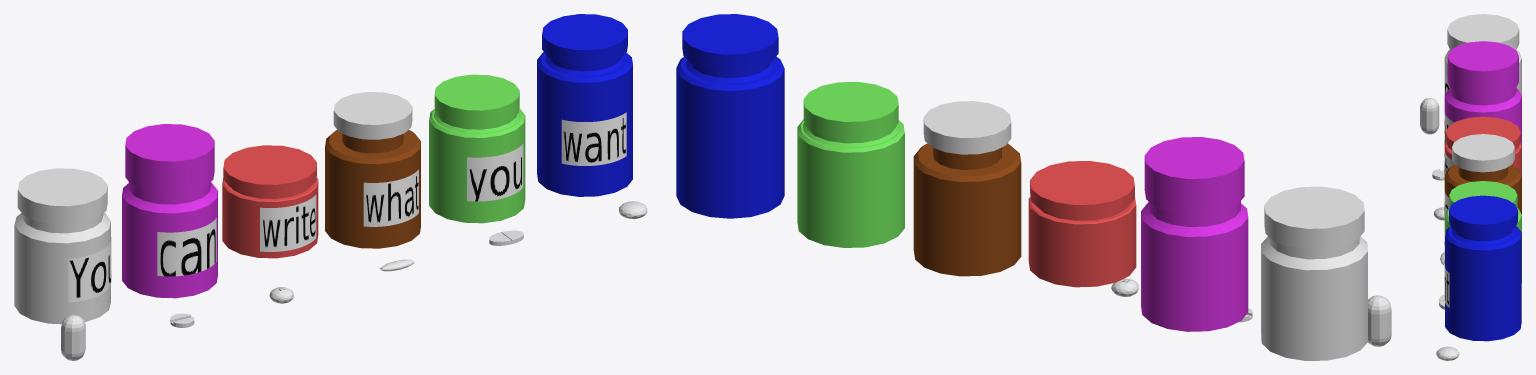
Rendered from release.glb.
3 views of the same model, side by side, from view 1: azimuth 30°, elevation 25°; view 2: azimuth 150°, elevation 25°; view 3: azimuth 270°, elevation 25° (orthographic). The views are drawn at different scales.
Visible parts, largest first — view 1: bottle.005, bottle.003, bottle.001, bottle, bottle.004, bottle.002, cap.001, cap, cap.002, cap.004, cap.005, cap.003 (+1 smaller); view 2: bottle.005, bottle.003, bottle.001, bottle, bottle.004, bottle.002, cap.001, cap, cap.002, cap.004, cap.005, cap.003 (+1 smaller); view 3: bottle.005, cap.001, cap.005, bottle.001, cap.003, cap, bottle.003, cap.002, cap.004, pill.001, bottle.002, bottle (+4 smaller).
Boxes of the visible parts, bbox=[...] form: bottle.005: bbox=[537, 52, 632, 196]; bottle.003: bbox=[325, 130, 420, 248]; bottle.001: bbox=[122, 182, 217, 298]; bottle: bbox=[14, 212, 111, 324]; bottle.004: bbox=[429, 108, 525, 223]; bottle.002: bbox=[222, 177, 318, 258]; cap.001: bbox=[125, 124, 214, 193]; cap: bbox=[17, 168, 107, 224]; cap.002: bbox=[223, 145, 316, 196]; cap.004: bbox=[434, 74, 519, 126]; cap.005: bbox=[542, 14, 627, 65]; cap.003: bbox=[333, 92, 412, 139]; bottle.005: bbox=[676, 56, 784, 218]; bottle.003: bbox=[913, 143, 1021, 276]; bottle.001: bbox=[1141, 201, 1248, 331]; bottle: bbox=[1261, 236, 1367, 360]; bottle.004: bbox=[797, 119, 904, 247]; bottle.002: bbox=[1028, 197, 1136, 287]; cap.001: bbox=[1144, 137, 1244, 214]; cap: bbox=[1264, 186, 1364, 249]; cap.002: bbox=[1030, 161, 1134, 217]; cap.004: bbox=[803, 81, 898, 139]; cap.005: bbox=[682, 14, 778, 71]; cap.003: bbox=[923, 101, 1011, 154]; bottle.005: bbox=[1444, 226, 1521, 341]; cap.001: bbox=[1447, 41, 1518, 96]; cap.005: bbox=[1449, 195, 1517, 236]; bottle.001: bbox=[1444, 87, 1521, 145]; cap.003: bbox=[1452, 134, 1514, 172]; cap: bbox=[1447, 14, 1519, 49]; bottle.003: bbox=[1444, 164, 1521, 214]; cap.002: bbox=[1445, 116, 1520, 149]; cap.004: bbox=[1449, 181, 1517, 208]; pill.001: bbox=[1420, 98, 1439, 134]; bottle.002: bbox=[1444, 143, 1521, 174]; bottle: bbox=[1444, 49, 1521, 95].
Size of the model in its own units: 14.44 by 3.97 by 2.64.
Materials: 13 (6 with a texture image).
